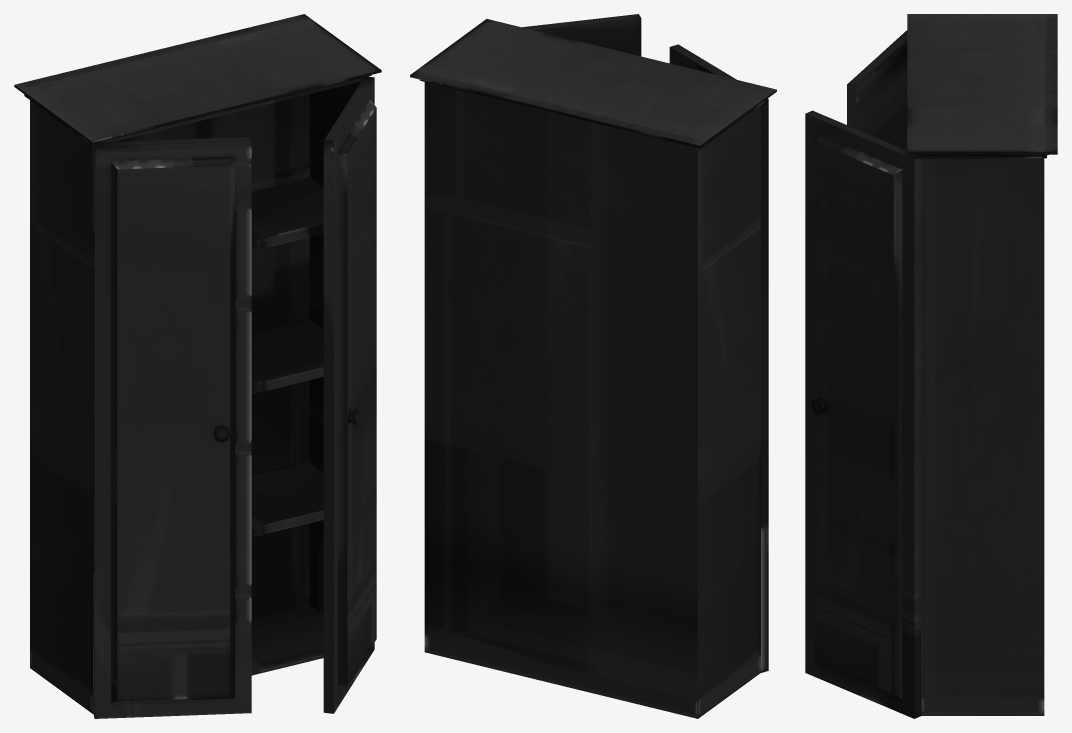
The model's file is RE_RBedShelf.FBX.
3 views of the same model, side by side, from view 1: azimuth 30°, elevation 25°; view 2: azimuth 150°, elevation 25°; view 3: azimuth 270°, elevation 25° (orthographic). The views are drawn at different scales.
Parts seen in each view (by area): view 1: RE_RBedShelf; view 2: RE_RBedShelf; view 3: RE_RBedShelf.
Part boxes in pixels (x1,y1,x2,y2): RE_RBedShelf: (14, 14, 381, 718); RE_RBedShelf: (410, 14, 776, 718); RE_RBedShelf: (805, 14, 1057, 718).
Bounding box in the file's own units: 79.16 × 151 × 60.94.
Materials: 1 (1 with a texture image).
